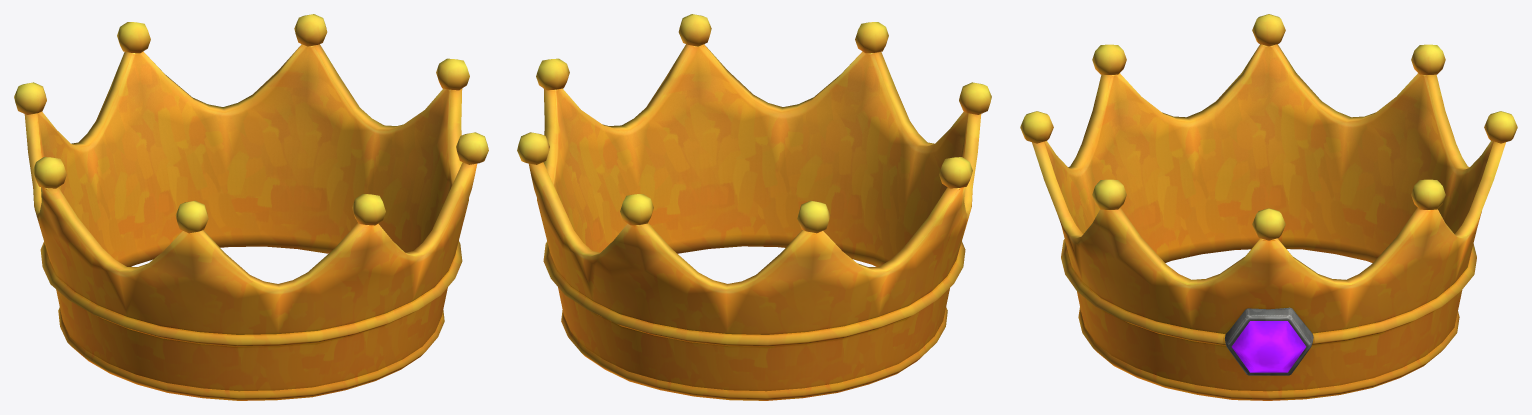
Rendered from SM_Queen_Crown.fbx.
3 renders of one model, left to right at view 1: azimuth 30°, elevation 25°; view 2: azimuth 150°, elevation 25°; view 3: azimuth 270°, elevation 25°, orthographic.
Visible parts, largest first — view 1: SM_Queen_Crown_LOD0; view 2: SM_Queen_Crown_LOD0; view 3: SM_Queen_Crown_LOD0.
Part boxes in pixels (x1,y1,x2,y2): SM_Queen_Crown_LOD0: (14,14,488,400); SM_Queen_Crown_LOD0: (517,14,991,400); SM_Queen_Crown_LOD0: (1020,14,1517,400).
Bounding box in the file's own units: 25.57 × 25.8 × 12.04.
1 material, 1 textured.
